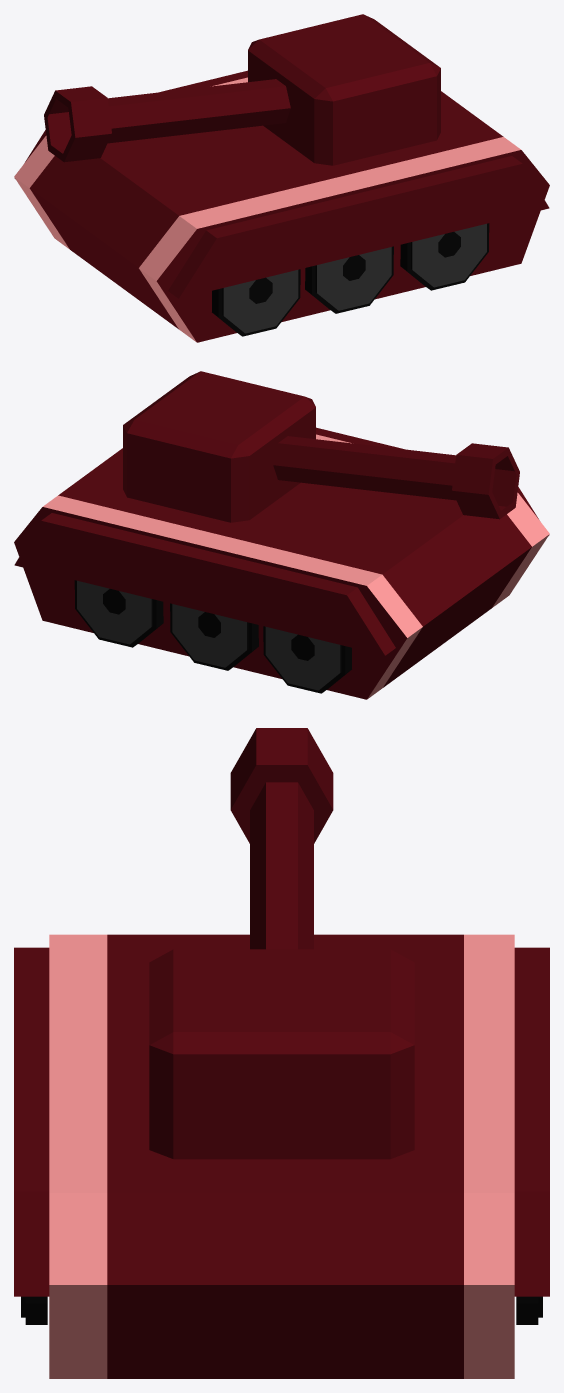
Rendered from tankR.fbx.
The picture shows the model from 3 angles, top to bottom: view 1: azimuth 30°, elevation 25°; view 2: azimuth 150°, elevation 25°; view 3: azimuth 270°, elevation 25°; orthographic projection. The views are drawn at different scales.
Parts seen in each view (by area): view 1: body, protections, head.001, canon.001, wheels; view 2: body, protections, head.001, canon.001, wheels; view 3: body, head.001, protections, canon.001, wheels.
Boxes of the visible parts, bbox=[...] form: body: bbox=[14, 77, 549, 342]; protections: bbox=[14, 70, 549, 298]; head.001: bbox=[248, 14, 440, 165]; canon.001: bbox=[44, 79, 290, 162]; wheels: bbox=[212, 223, 489, 336]; body: bbox=[14, 434, 549, 699]; protections: bbox=[14, 427, 549, 655]; head.001: bbox=[123, 371, 315, 522]; canon.001: bbox=[273, 436, 519, 519]; wheels: bbox=[74, 580, 351, 693]; body: bbox=[49, 934, 514, 1378]; head.001: bbox=[149, 949, 414, 1159]; protections: bbox=[14, 947, 549, 1296]; canon.001: bbox=[230, 728, 333, 949]; wheels: bbox=[21, 1296, 542, 1324].
Bounding box in the file's own units: 261 × 124 × 175.
